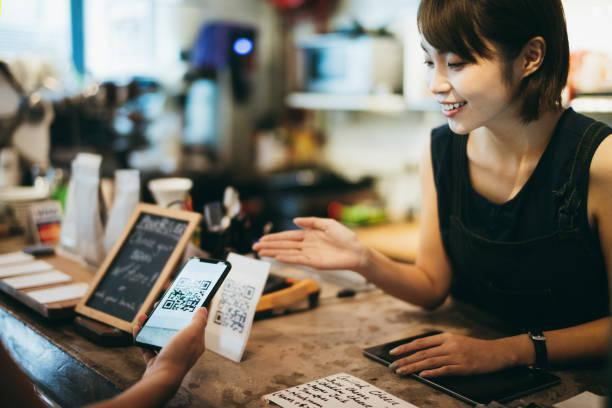Finder pattern: (242, 284, 258, 302), (211, 308, 225, 327), (159, 299, 177, 312), (223, 277, 236, 293), (197, 279, 211, 292), (176, 277, 190, 289)
